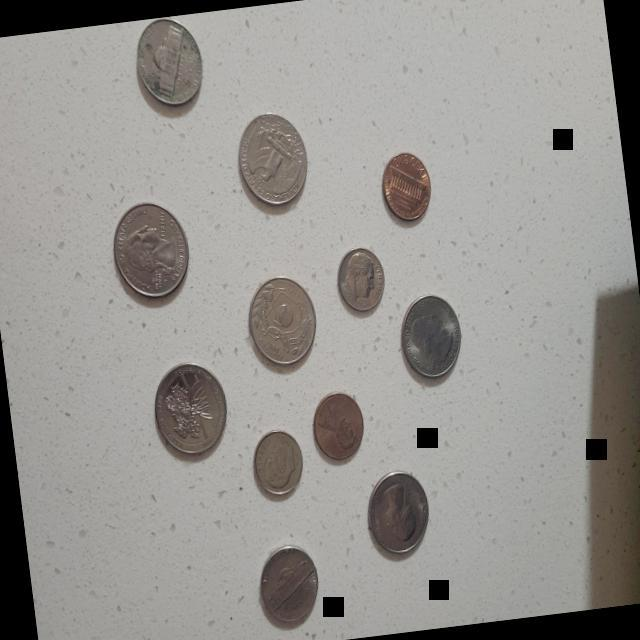Dime: (246, 424, 308, 502), (329, 242, 389, 320)
Nickel: (120, 12, 209, 116), (252, 540, 322, 632)
Penny: (303, 382, 371, 470), (370, 144, 440, 227)
Quarter: (103, 193, 199, 306), (146, 352, 234, 463), (242, 266, 325, 376), (228, 105, 314, 211), (389, 286, 468, 386), (358, 464, 437, 562)
